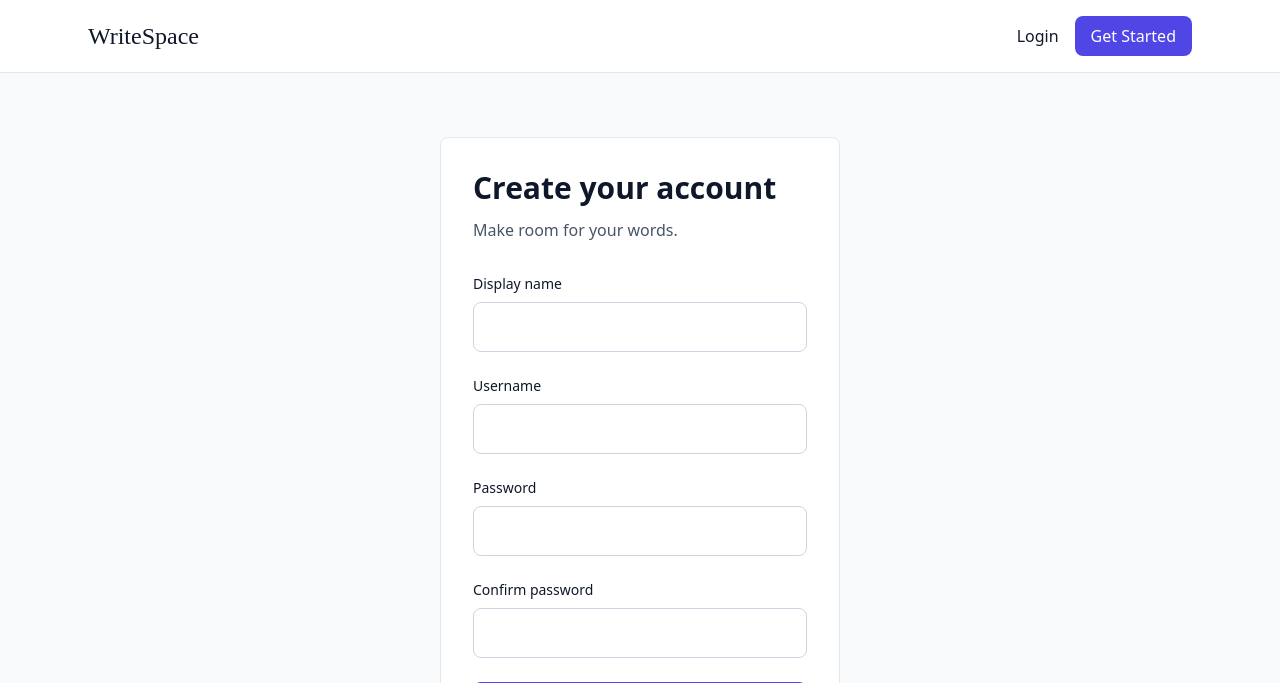
Test: rejects reserved or exact duplicate admin
Type " Jane " into the field labelled "Display name" at (640, 327), box [473,302,807,352]
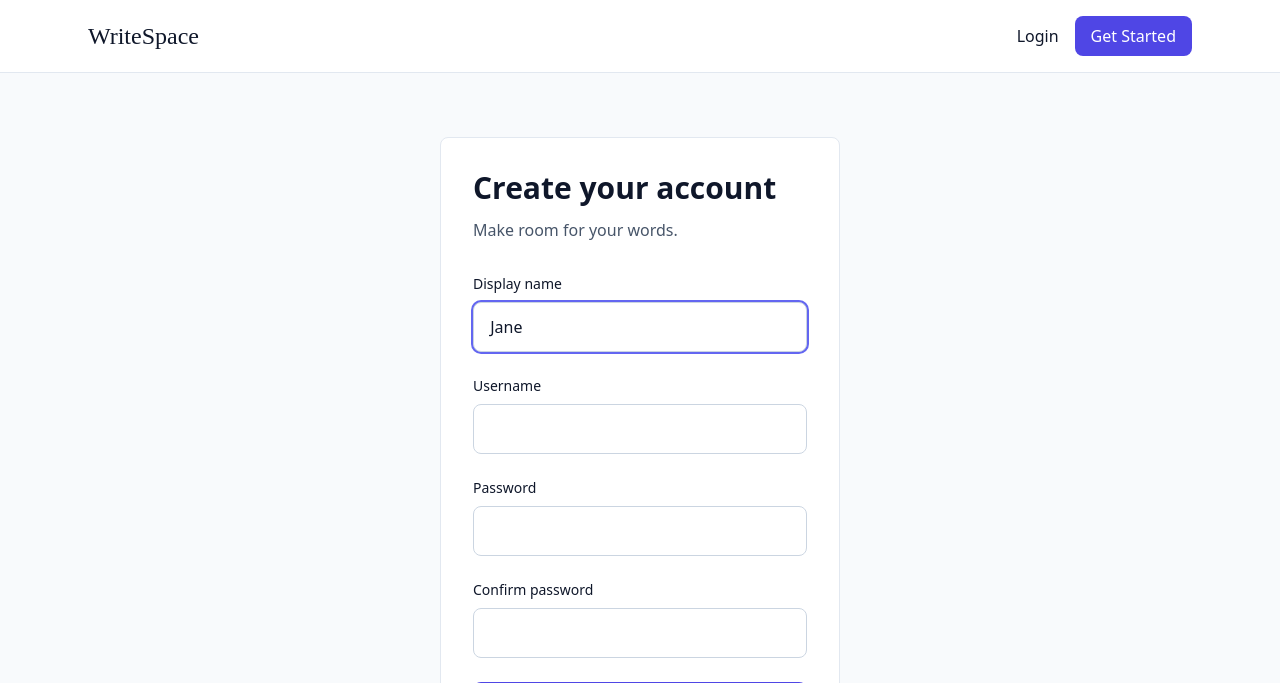
Type "admin" into the field labelled "Username" at (640, 429), box [473,404,807,454]
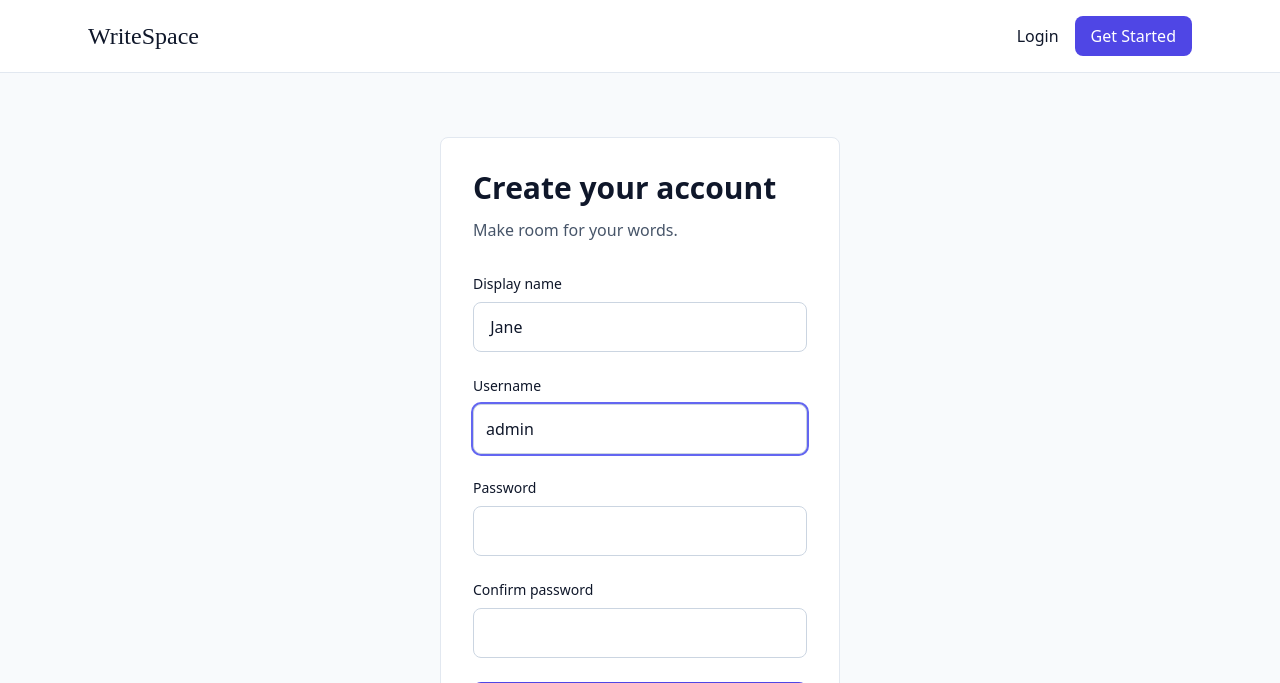
Type " demo " into the password field labelled "Password" at (640, 531), box [473,506,807,556]
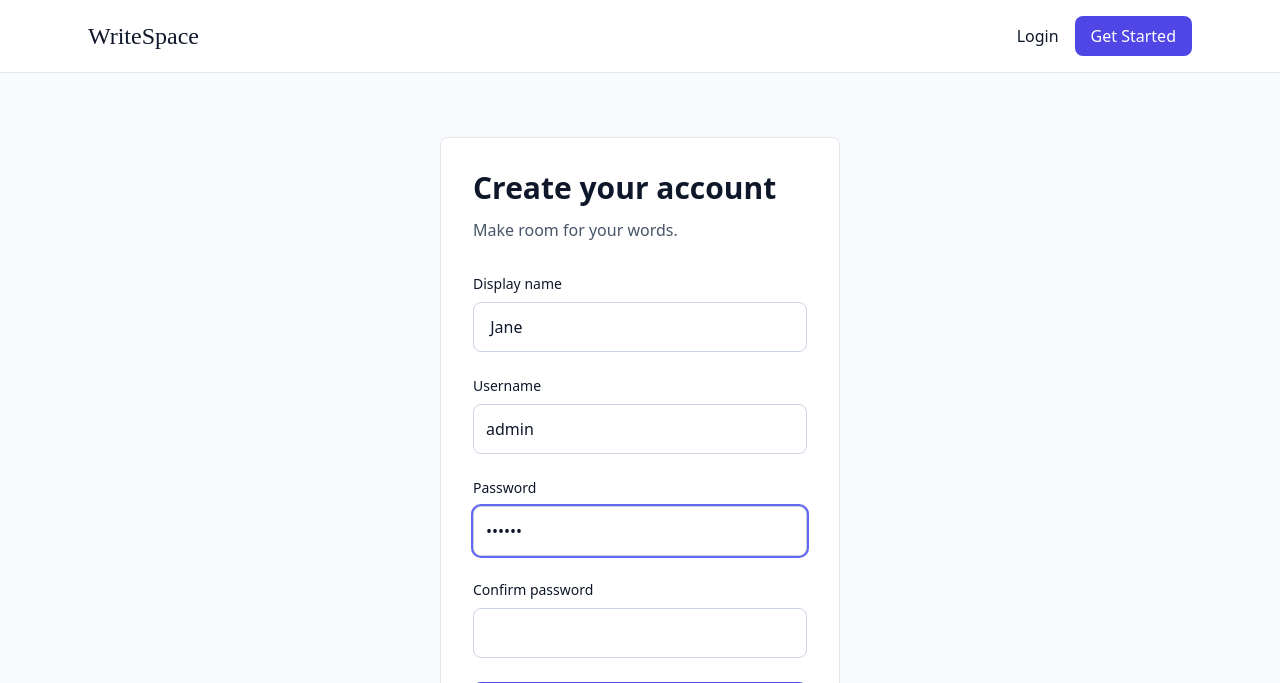
Type " demo " into the password field labelled "Confirm password" at (640, 633), box [473,608,807,658]
(page scrolled)
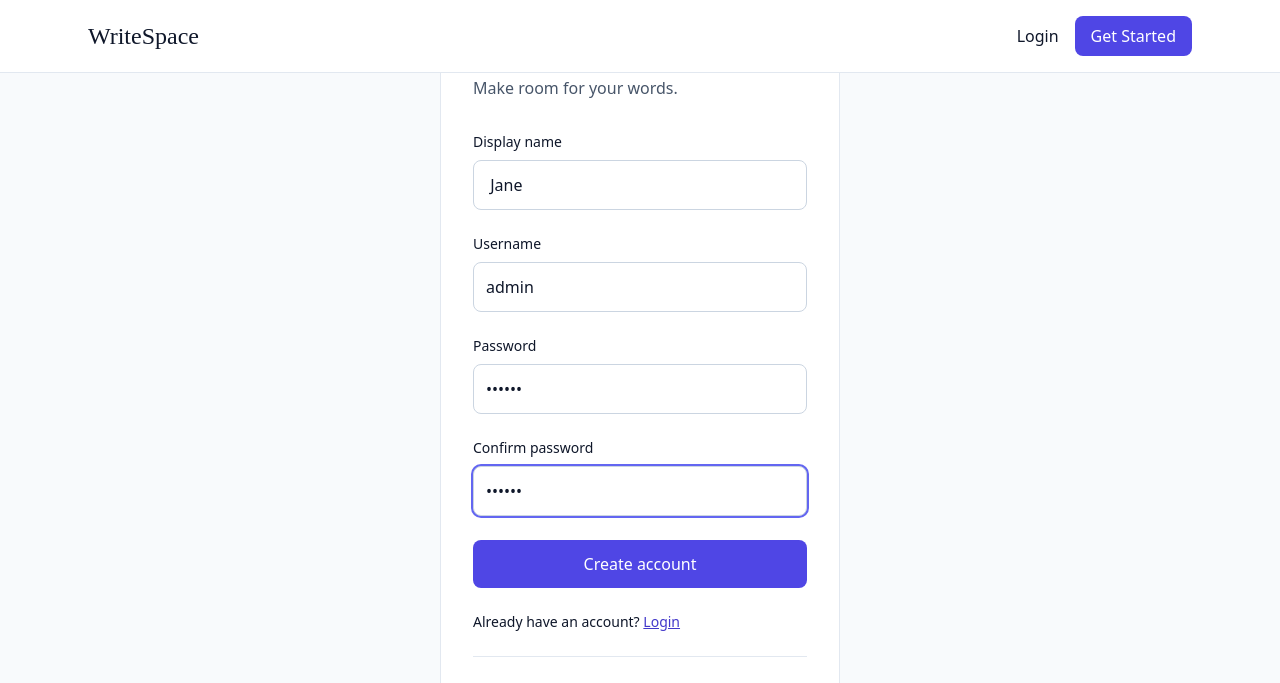
Submit the form "Create account", box [473,132,807,588]
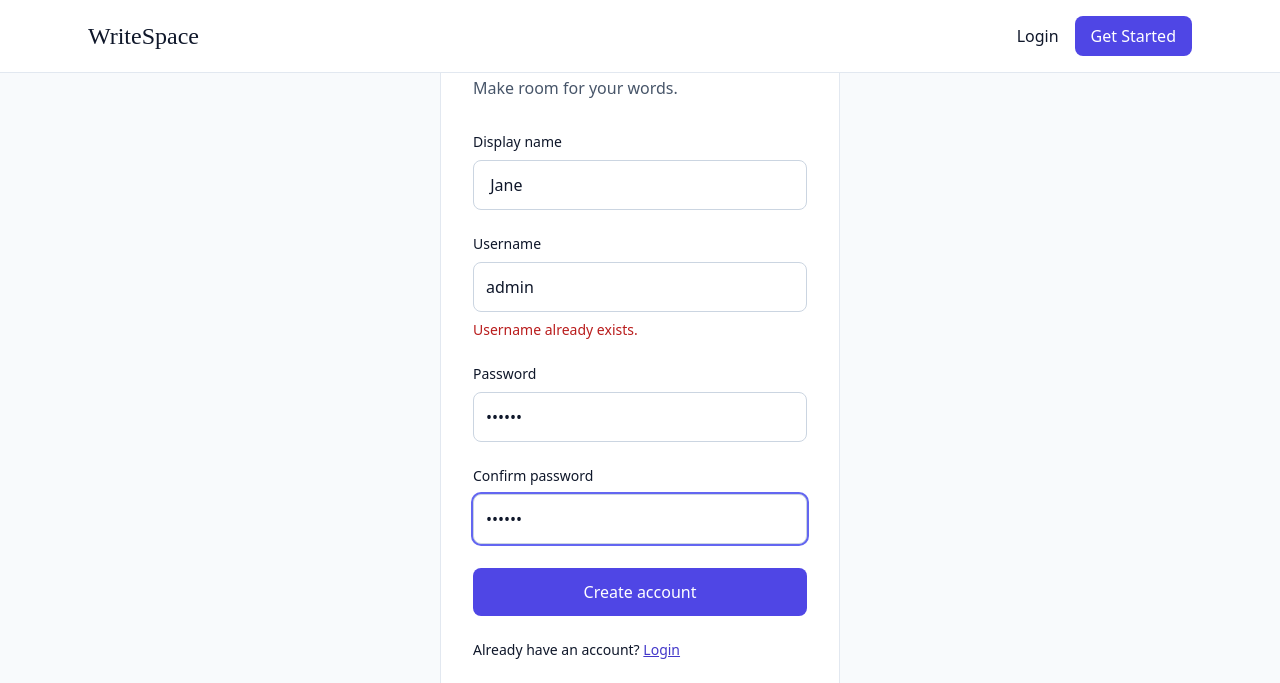
Check: the message reads "Username already exists.", box [473,320,638,339]
